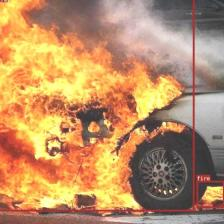fire: (0, 0, 194, 211), (196, 180, 224, 207)
